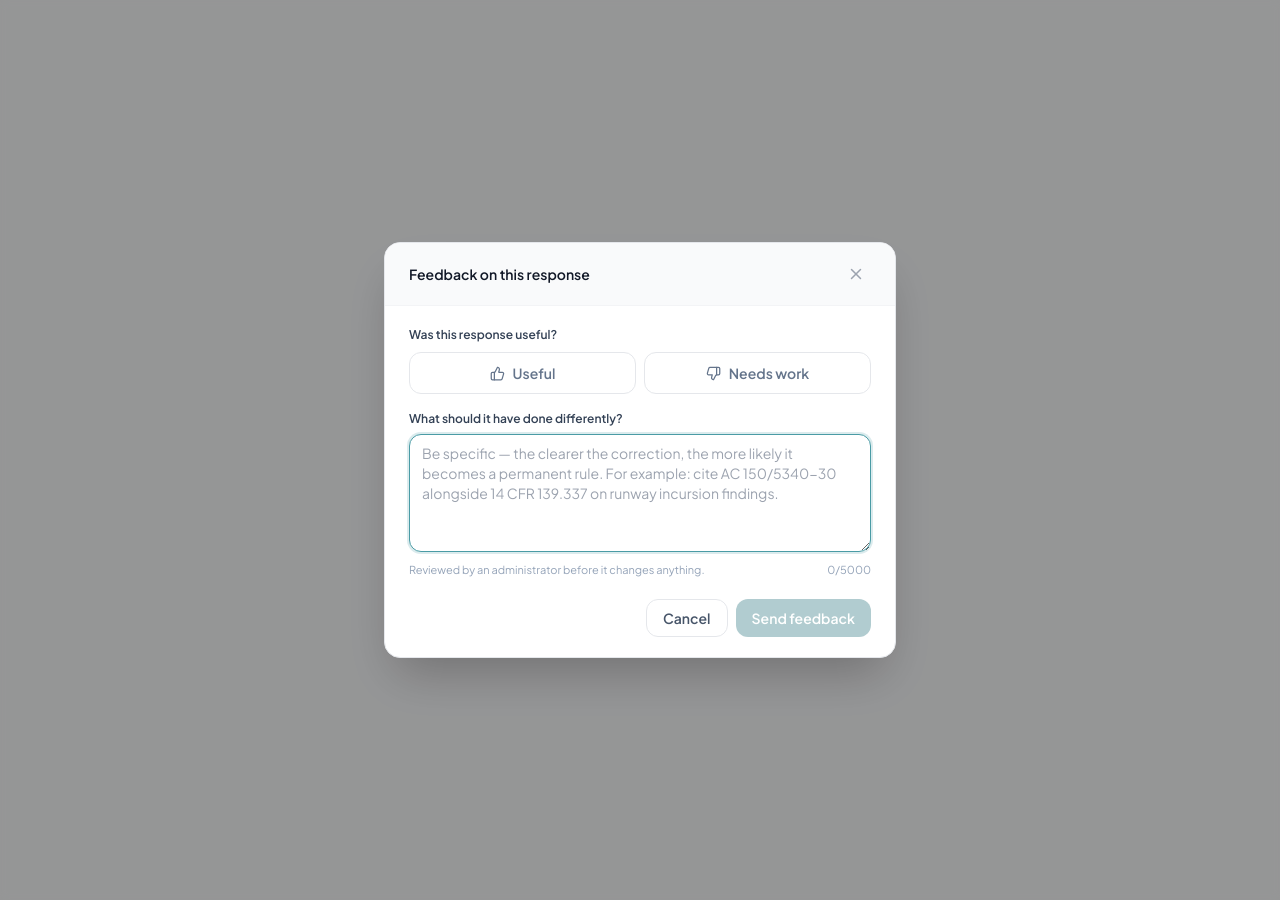
Test: FeedbackModal › confirms what happens to the feedback after sending
The width and height of the screenshot is (1280, 900).
Click the button "Useful": click(522, 373) left=409, top=352, right=636, bottom=394
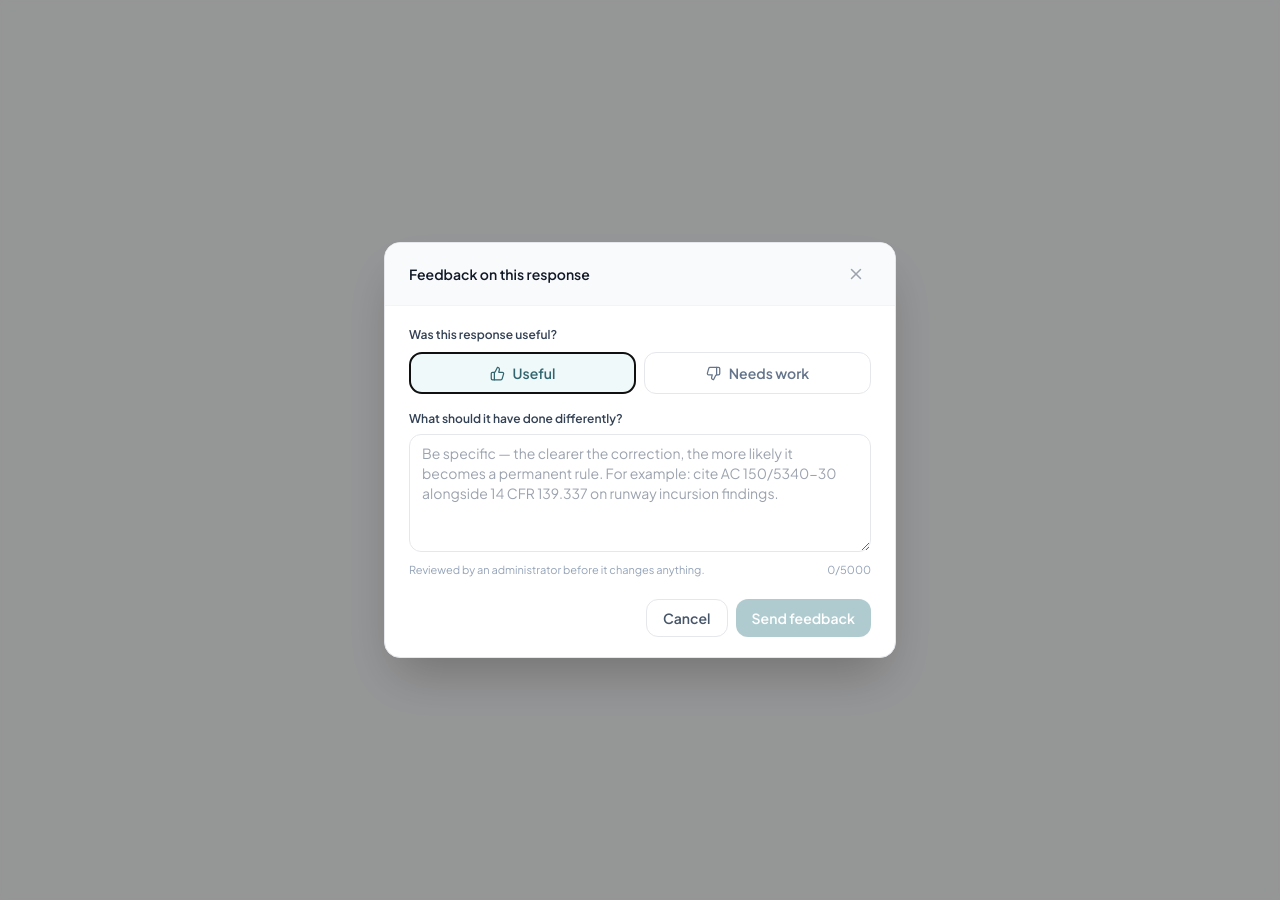
In the text box: (640, 493) left=409, top=434, right=871, bottom=552, type "Good."
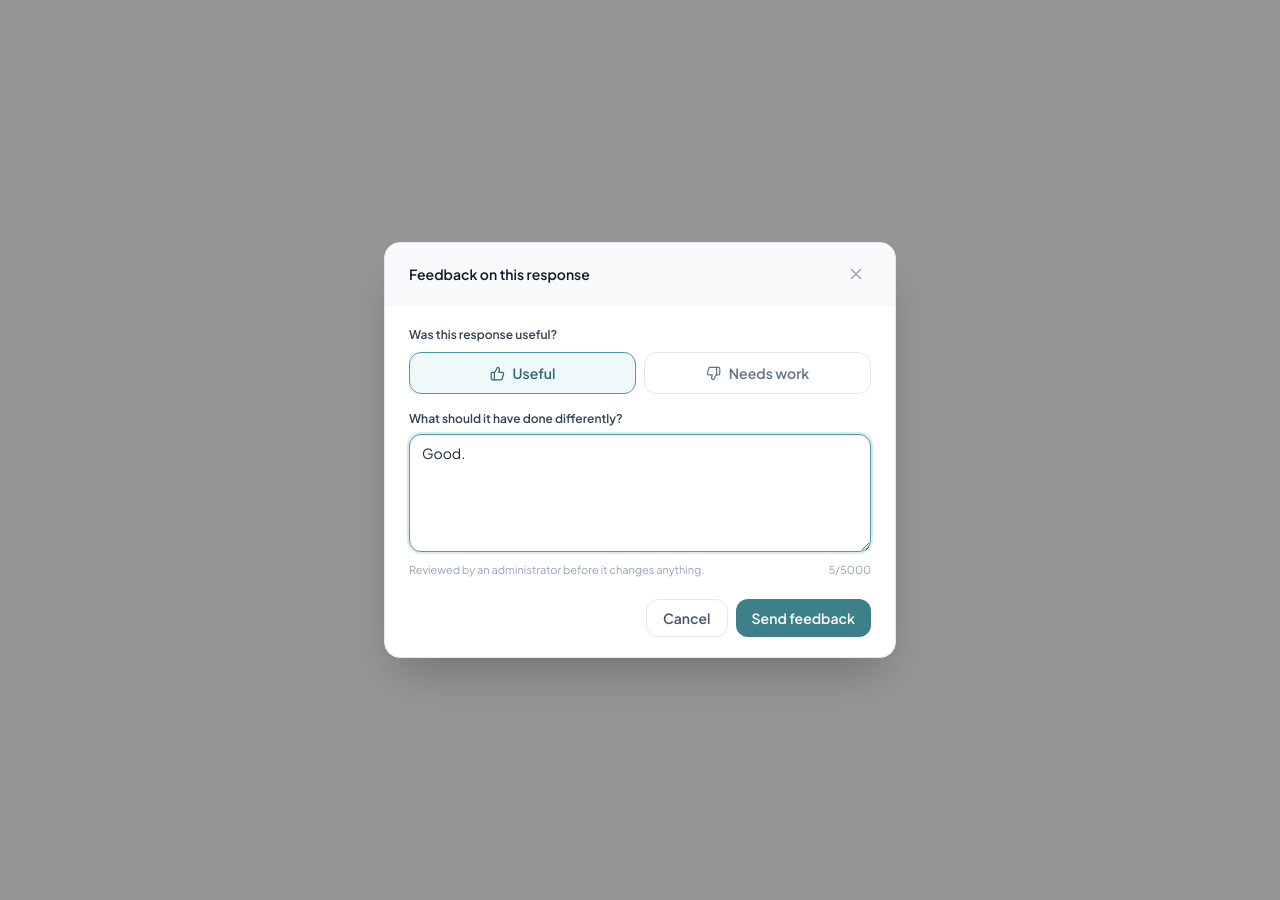
Click the button "Send feedback": click(803, 618) left=736, top=599, right=871, bottom=637
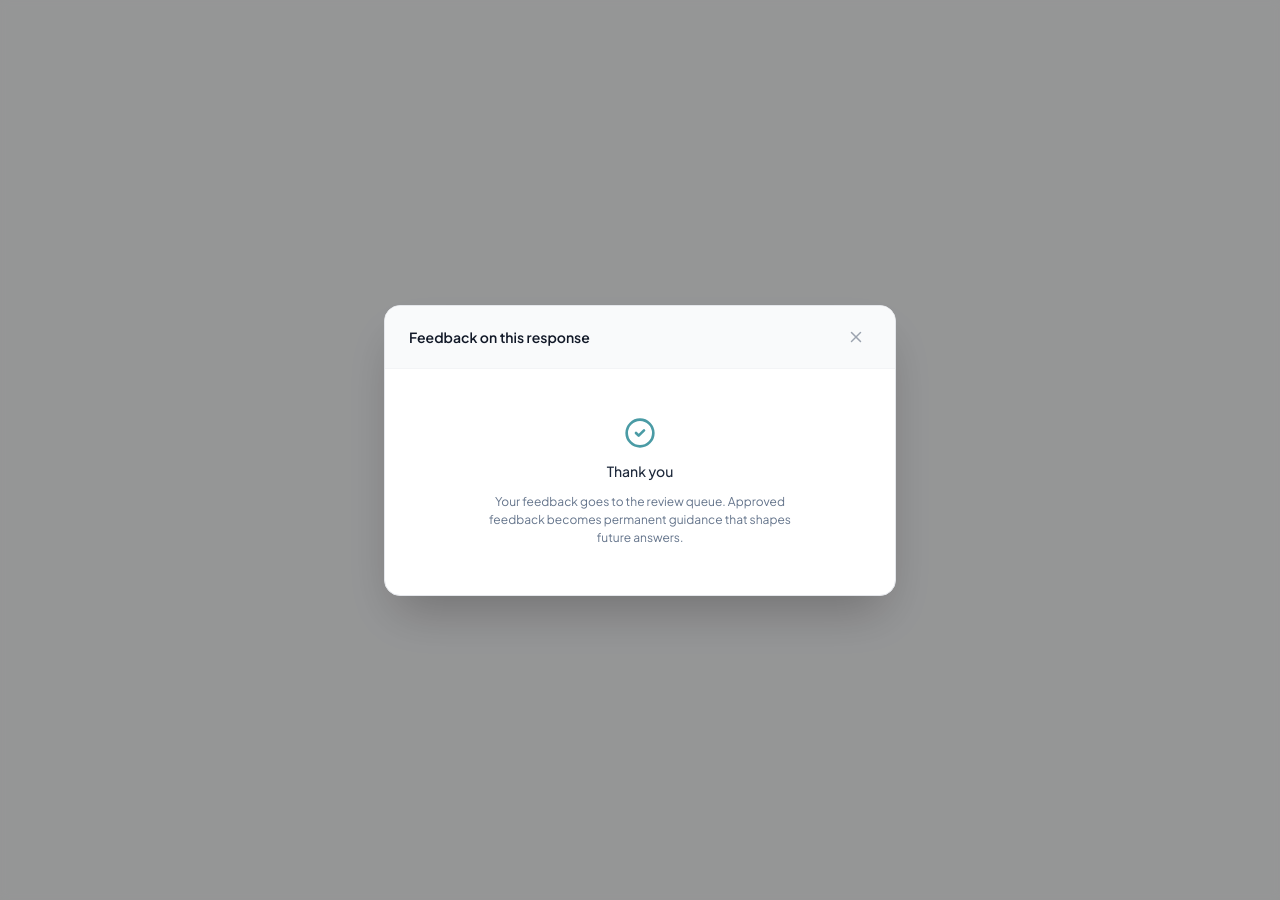
Now the text "Thank you" is shown, box left=607, top=460, right=673, bottom=480
Now the text "permanent guidance" is shown, box left=489, top=494, right=791, bottom=544
